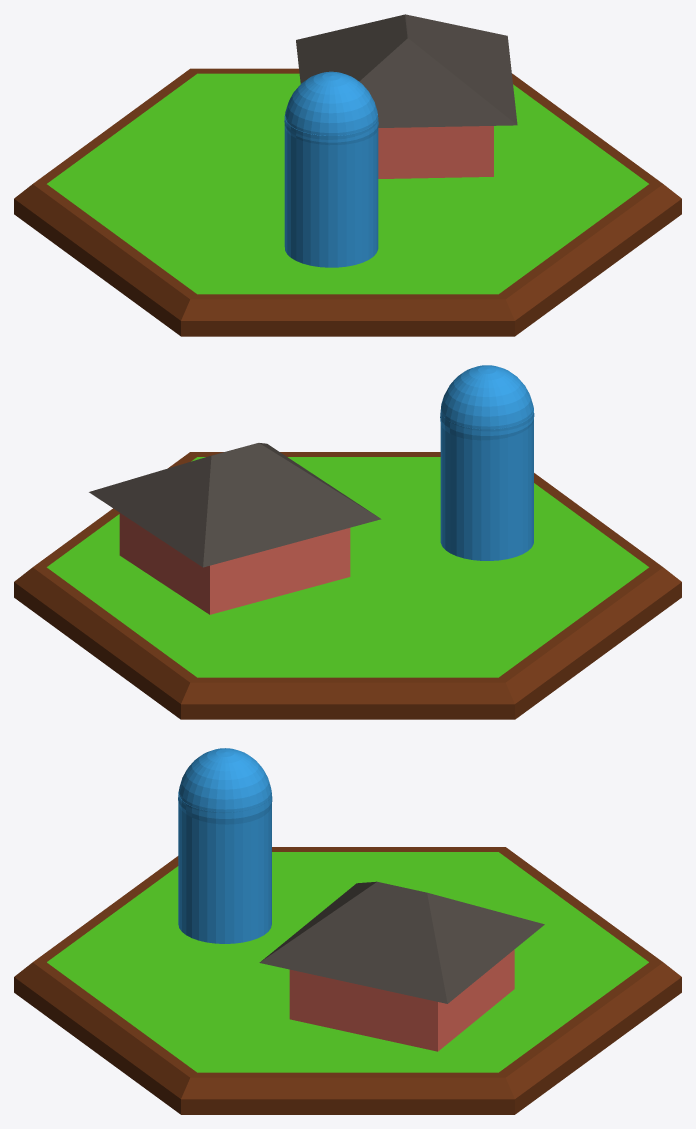
Rendered from building2_hex.fbx.
The picture shows the model from 3 angles, top to bottom: view 1: azimuth 30°, elevation 25°; view 2: azimuth 150°, elevation 25°; view 3: azimuth 270°, elevation 25°; orthographic projection.
Parts seen in each view (by area): view 1: Base, Cube, Cylinder, Sphere; view 2: Base, Cube, Cylinder, Sphere; view 3: Base, Cube, Cylinder, Sphere.
Boxes of the visible parts, x1,y1,x2,y2 form: Base: [14, 68, 681, 336]; Cube: [296, 14, 517, 178]; Cylinder: [284, 114, 378, 267]; Sphere: [284, 71, 378, 145]; Base: [14, 452, 681, 719]; Cube: [89, 443, 381, 614]; Cylinder: [440, 408, 533, 560]; Sphere: [440, 365, 534, 440]; Base: [14, 847, 681, 1114]; Cube: [259, 881, 544, 1051]; Cylinder: [178, 792, 271, 943]; Sphere: [178, 748, 272, 824].
Bounding box in the file's own units: 173 × 66.87 × 200.
